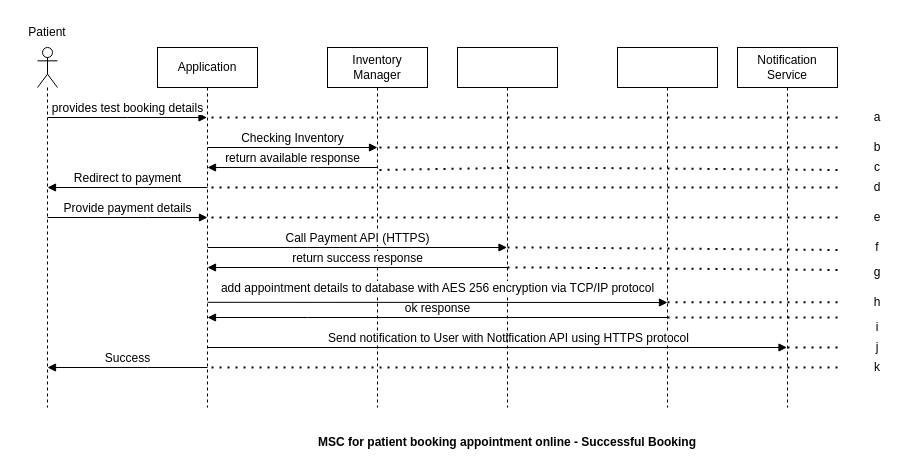
Image size: 924x474. Some labels were removed from this diagram. Each missing label, with the box of its shape:
Payment Gateways: (456, 46, 558, 408)
Test Booking DB: (616, 46, 718, 408)
